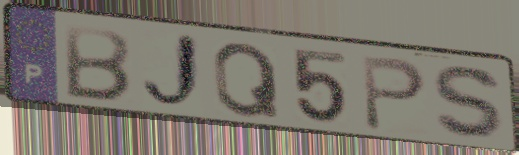5: (288, 46, 351, 127)
B: (62, 23, 135, 105)
J: (139, 30, 207, 114)
P: (359, 53, 430, 135)
Q: (210, 41, 284, 122)
S: (429, 63, 511, 144)
